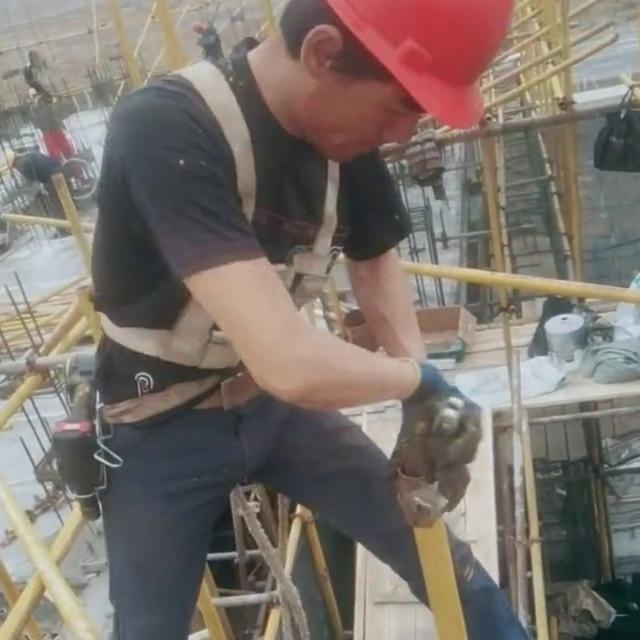Arnes_seguridad: (86, 54, 356, 373)
